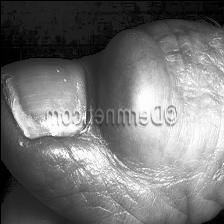Toxin: (96, 25, 176, 104), (95, 125, 169, 164), (0, 63, 22, 122)
